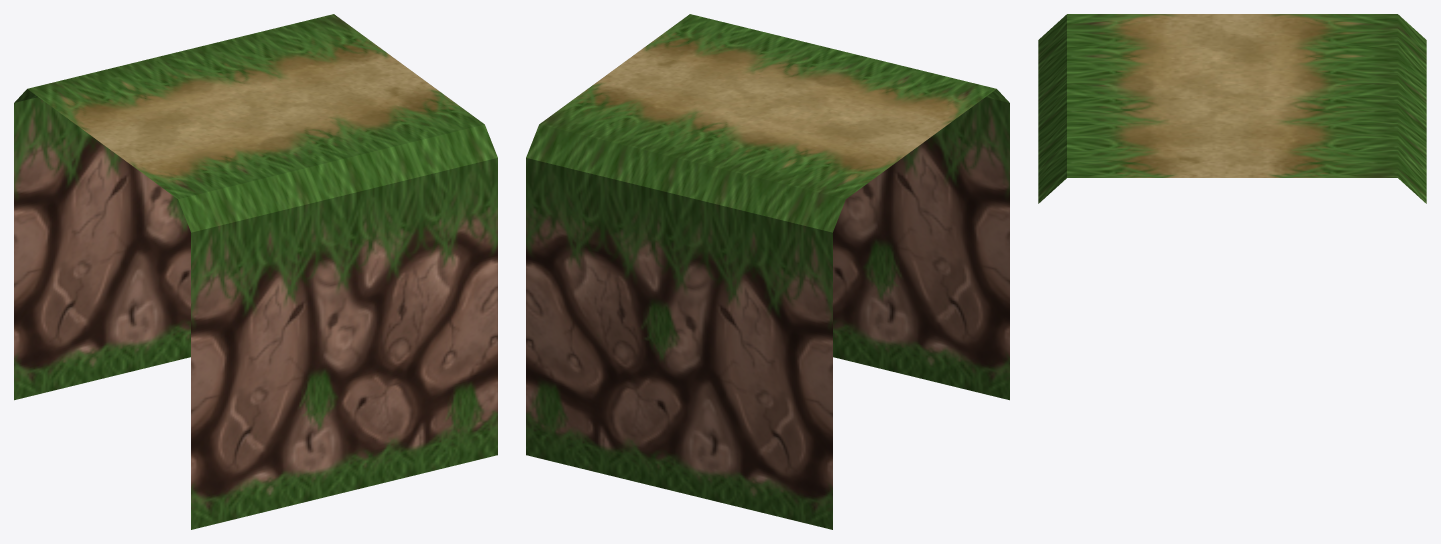
The model's file is bloc_intermediaire 1.FBX.
3 renders of one model, left to right at view 1: azimuth 30°, elevation 25°; view 2: azimuth 150°, elevation 25°; view 3: azimuth 270°, elevation 25°, orthographic. The views are drawn at different scales.
Parts seen in each view (by area): view 1: Object020; view 2: Object020; view 3: Object020.
Boxes of the visible parts, <box> form: Object020: <box>14,14,497,529</box>; Object020: <box>526,14,1009,529</box>; Object020: <box>1038,14,1426,203</box>.
Size of the model in its own units: 100 by 100 by 100.
